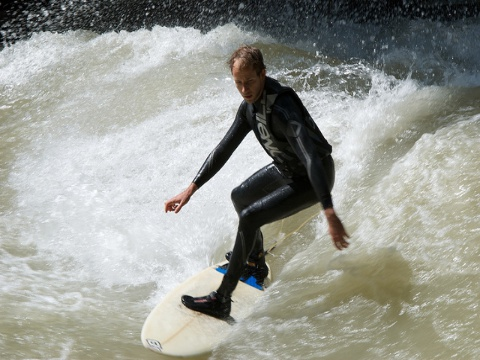hand: (326, 219, 351, 253), (164, 190, 190, 216)
